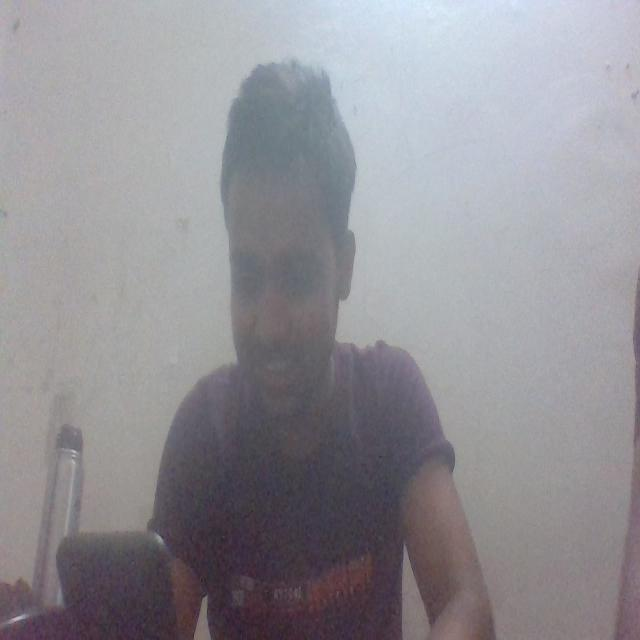Phone: (48, 528, 176, 640)
